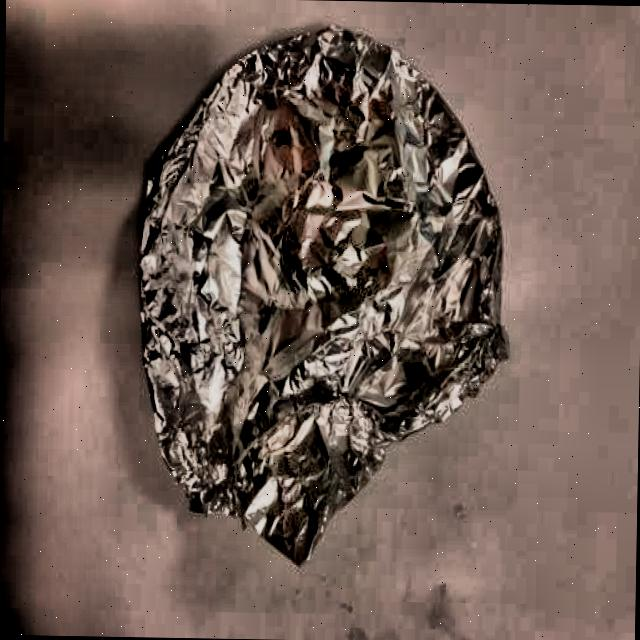metal: (133, 21, 518, 558)
